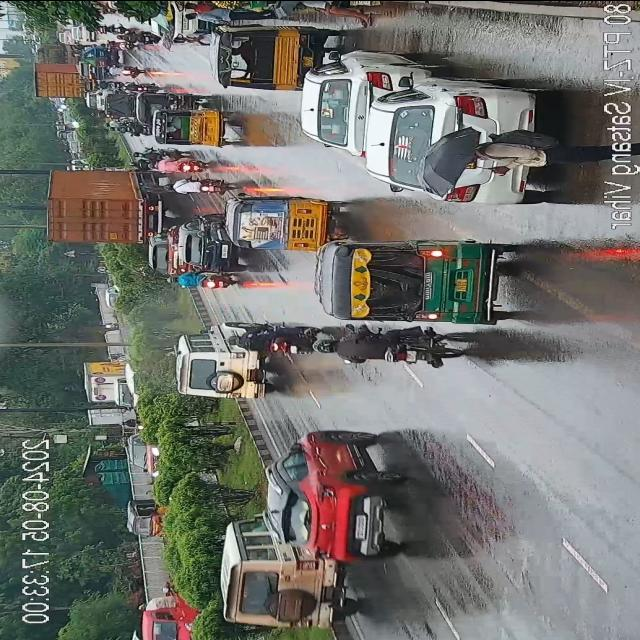2-wheelers: (330, 328, 456, 366), (140, 92, 193, 120), (164, 178, 227, 198), (167, 276, 235, 293), (154, 156, 202, 172)
auto: (329, 242, 499, 326), (219, 29, 297, 92), (234, 197, 326, 247), (162, 110, 240, 144), (120, 493, 168, 537)
car: (376, 86, 546, 203), (276, 423, 396, 560), (226, 508, 338, 630), (309, 59, 433, 150), (178, 330, 276, 396), (466, 136, 640, 161), (140, 588, 208, 640), (189, 222, 247, 276), (123, 435, 161, 474), (150, 226, 180, 274)
pedestrian: (289, 0, 373, 17), (188, 7, 272, 23), (172, 34, 212, 44)
truck: (46, 172, 156, 244), (37, 60, 91, 94)
